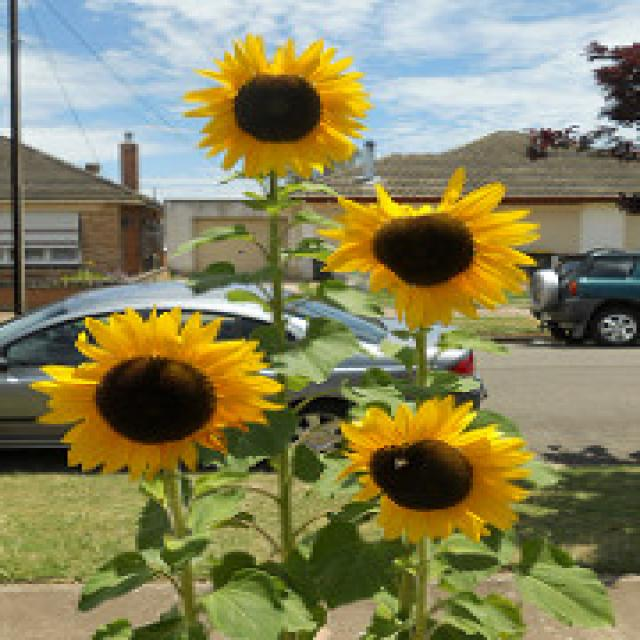sunflower: (32, 306, 274, 474), (322, 175, 546, 342), (180, 29, 372, 192), (352, 396, 530, 548)
